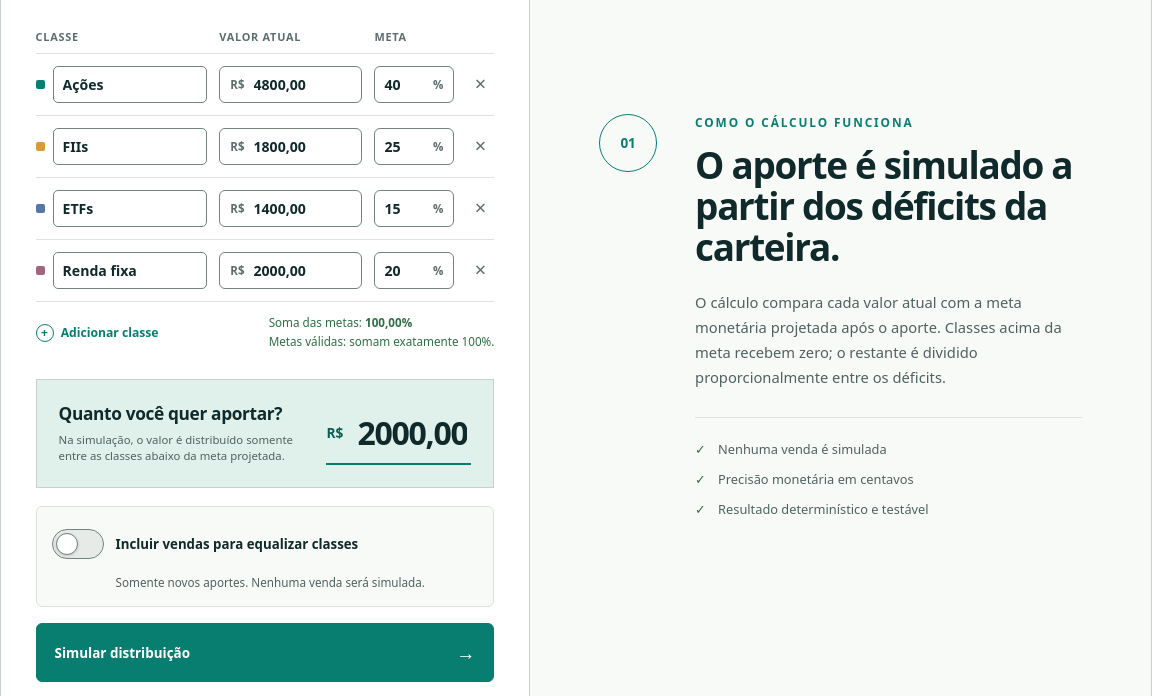
Scenario: ContributionSimulator › explains temporary API unavailability without local setup instructions
(page scrolled)
Step 1. Click the button "Simular distribuição →" → (122, 653), box [36,623,494,682]
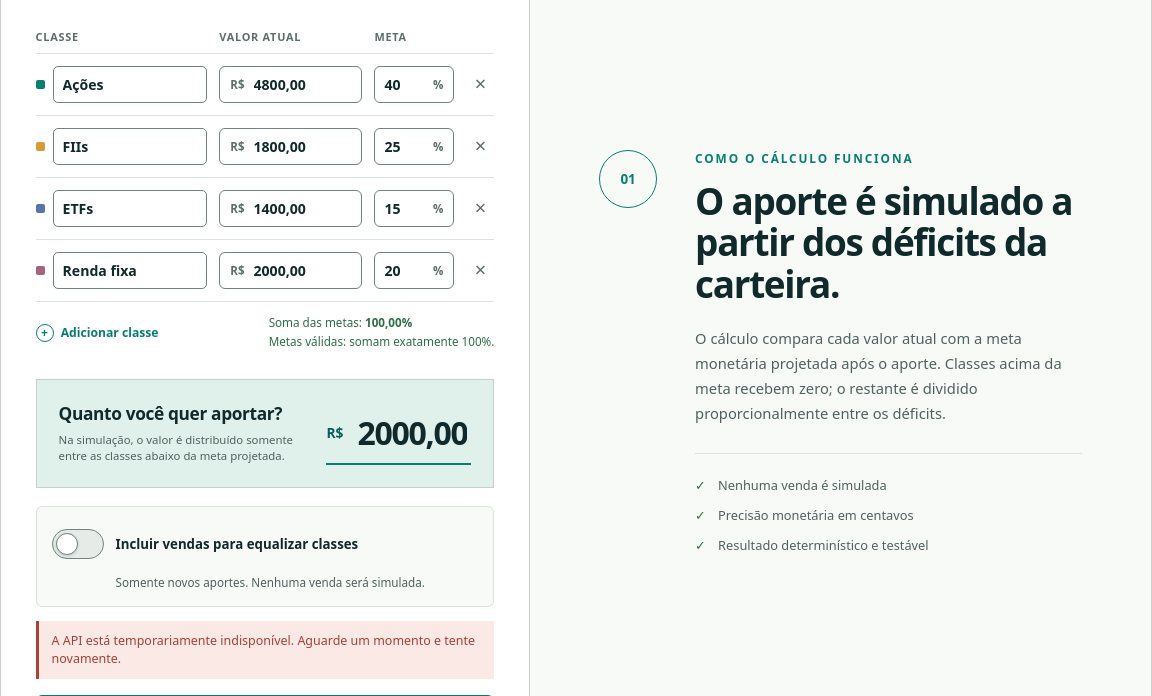
Now the message reads "A API está temporariamente indisponível. Aguarde um momento e tente novamente.", box [52,632,475,667]
